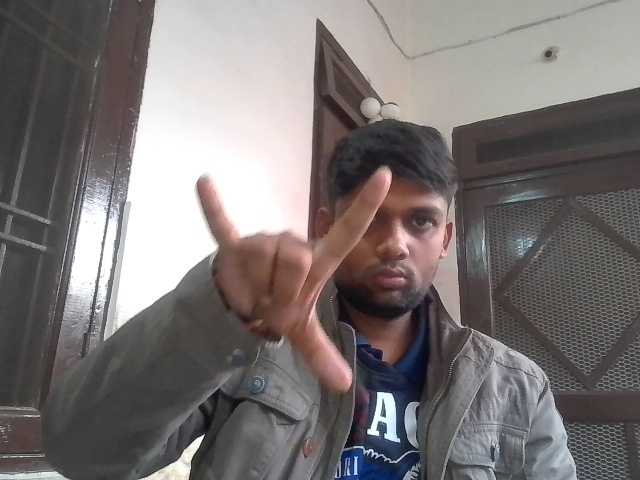ILoveYou: (180, 166, 419, 392)
